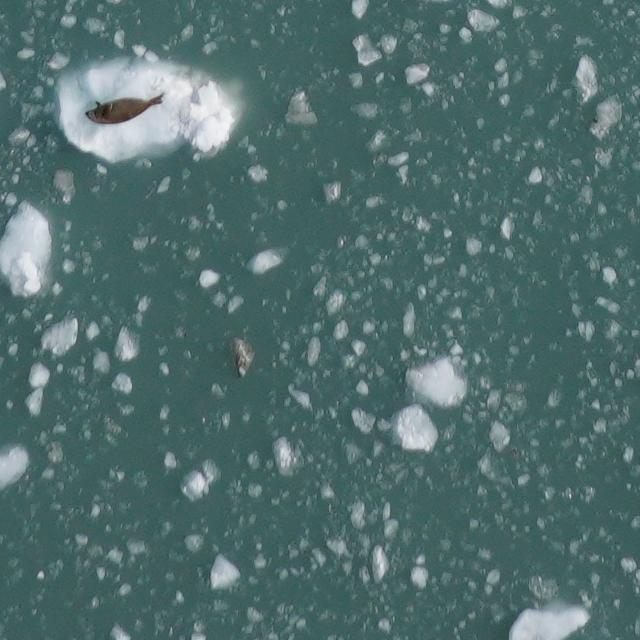seal: (81, 88, 170, 128)
